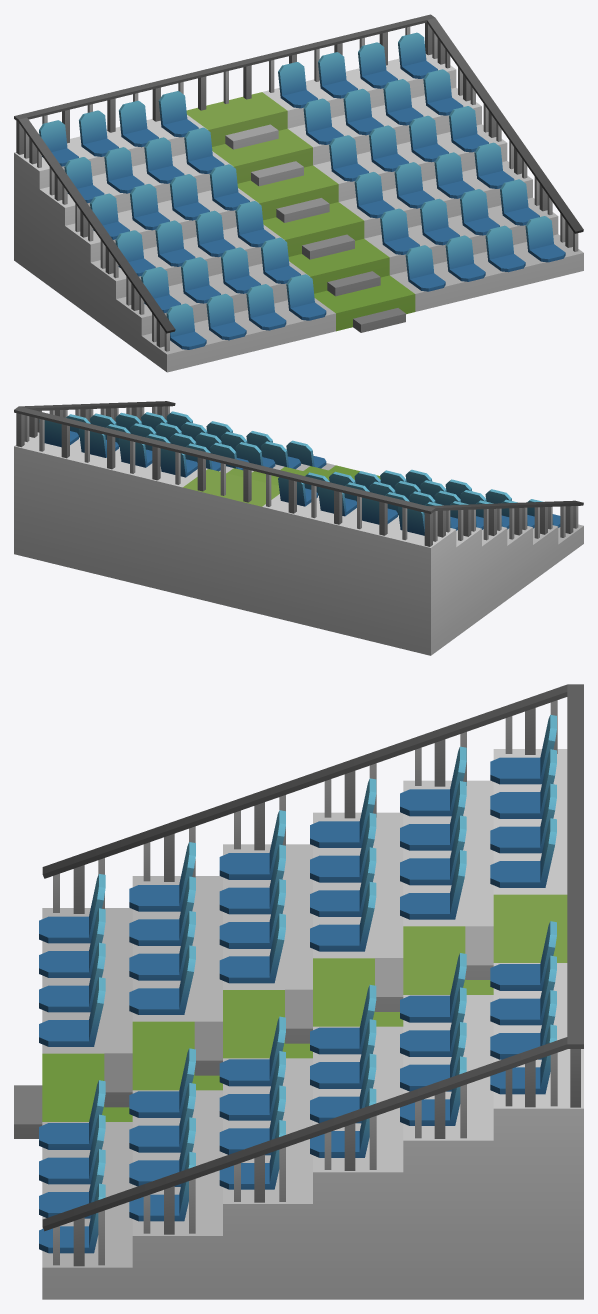
Rendered from soccer grandstand 2.fbx.
The picture shows the model from 3 angles, top to bottom: view 1: azimuth 30°, elevation 25°; view 2: azimuth 150°, elevation 25°; view 3: azimuth 270°, elevation 25°; orthographic projection. The views are drawn at different scales.
Visible parts, largest first — view 1: soccer grandstand 2; view 2: soccer grandstand 2; view 3: soccer grandstand 2.
Part boxes in pixels (left/top/right/bottom): soccer grandstand 2: left=14, top=14, right=583, bottom=372; soccer grandstand 2: left=14, top=401, right=583, bottom=655; soccer grandstand 2: left=14, top=684, right=583, bottom=1299.
Size of the model in its own units: 1072 by 355 by 717.
